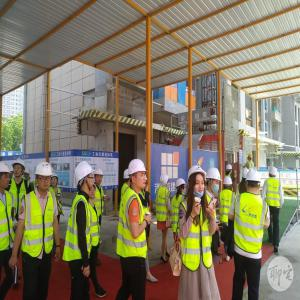white: (188, 165, 208, 198), (129, 158, 148, 191), (75, 161, 95, 189), (35, 161, 52, 192), (207, 168, 222, 194), (246, 171, 262, 195), (1, 162, 11, 192), (14, 158, 27, 179), (177, 178, 188, 196), (223, 175, 234, 192), (94, 168, 104, 185), (161, 172, 171, 189), (51, 173, 60, 187), (269, 166, 278, 180), (242, 168, 250, 181), (226, 164, 234, 175)
yellow: (247, 153, 254, 162)
